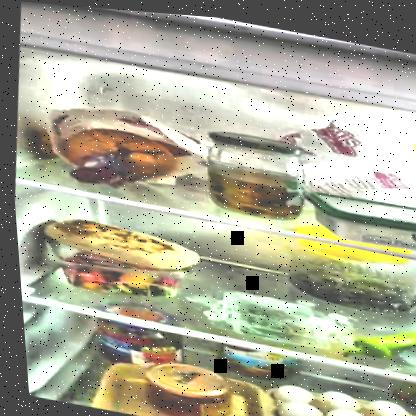cream_cheese: (304, 182, 415, 246)
eggs: (265, 378, 415, 415)
green_chillies: (340, 308, 415, 365)
olives: (288, 253, 415, 310)
red_onion: (66, 145, 133, 187)
